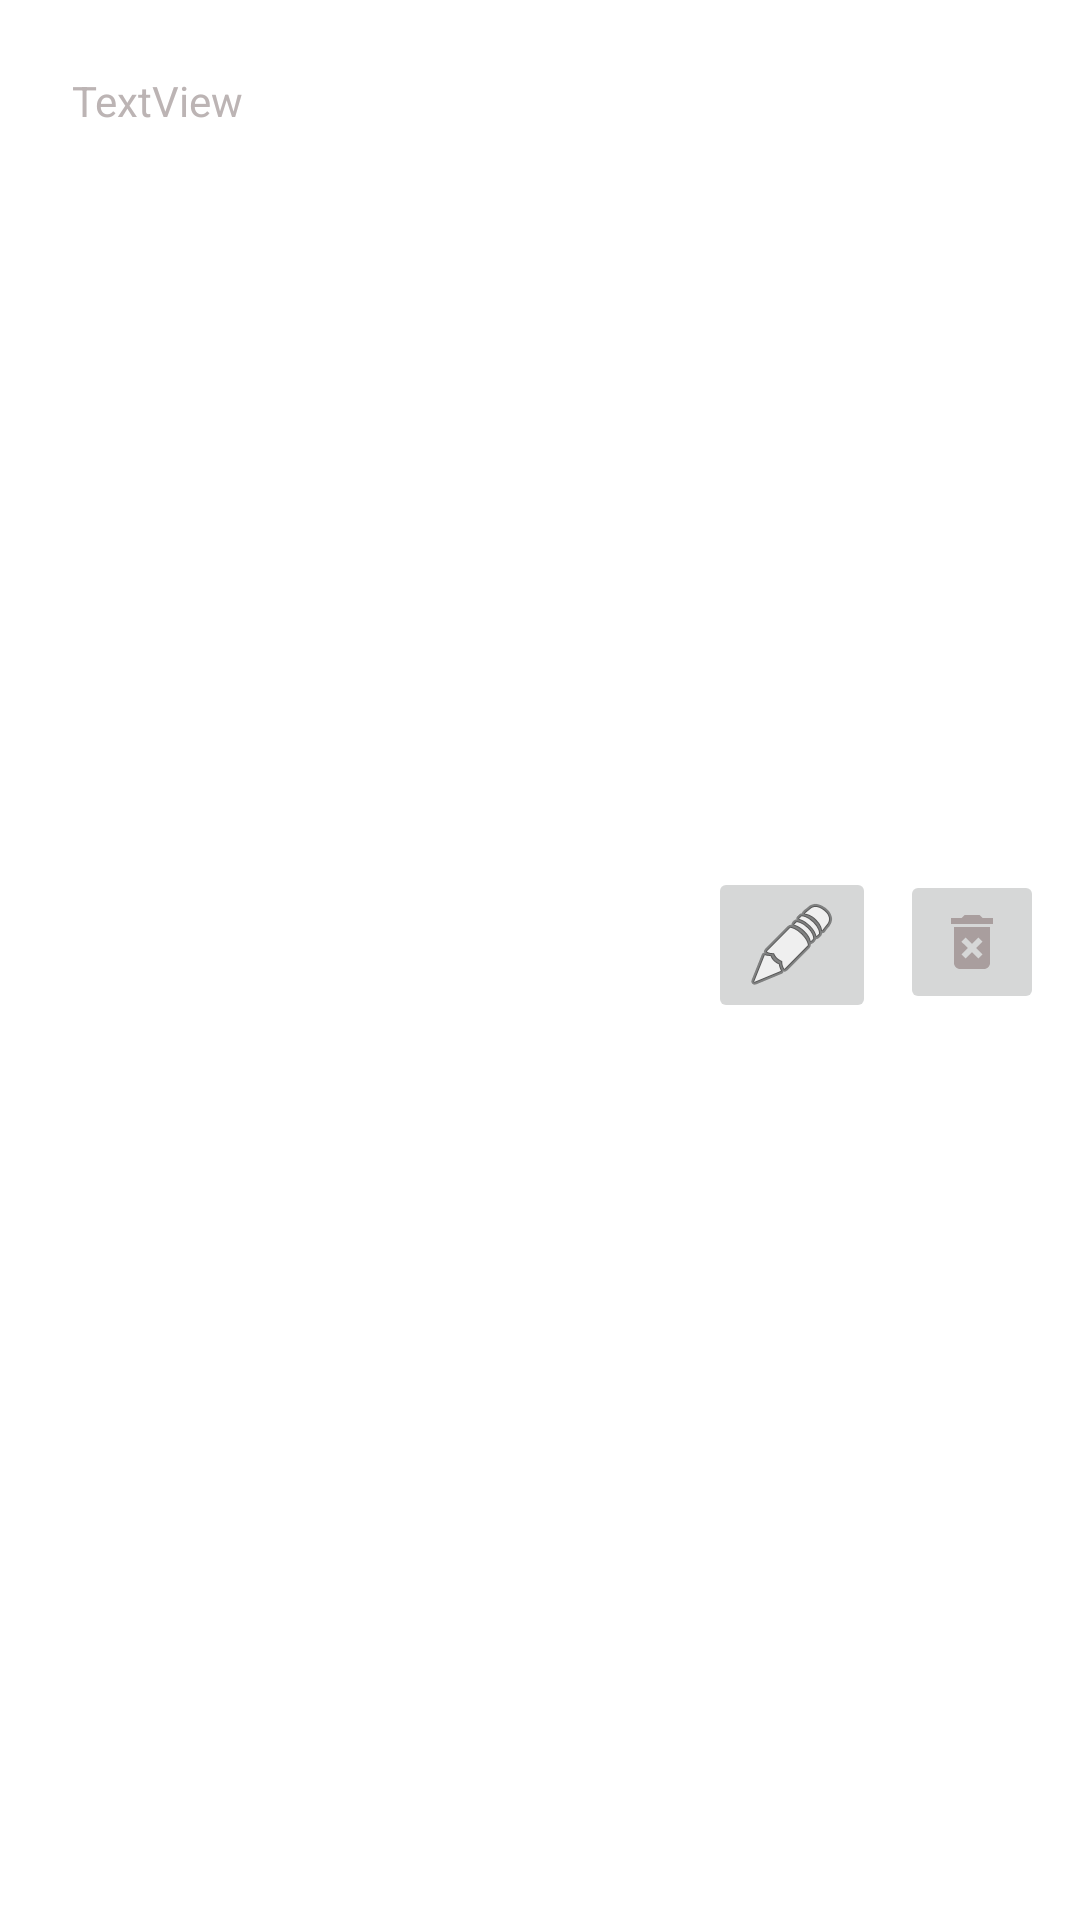

Screen size 1080px x 1920px. Icon name, then its box in pixels as (x1, y1, x2, y2):
delete: (912, 888, 1032, 996)
edit: (720, 885, 864, 1005)
